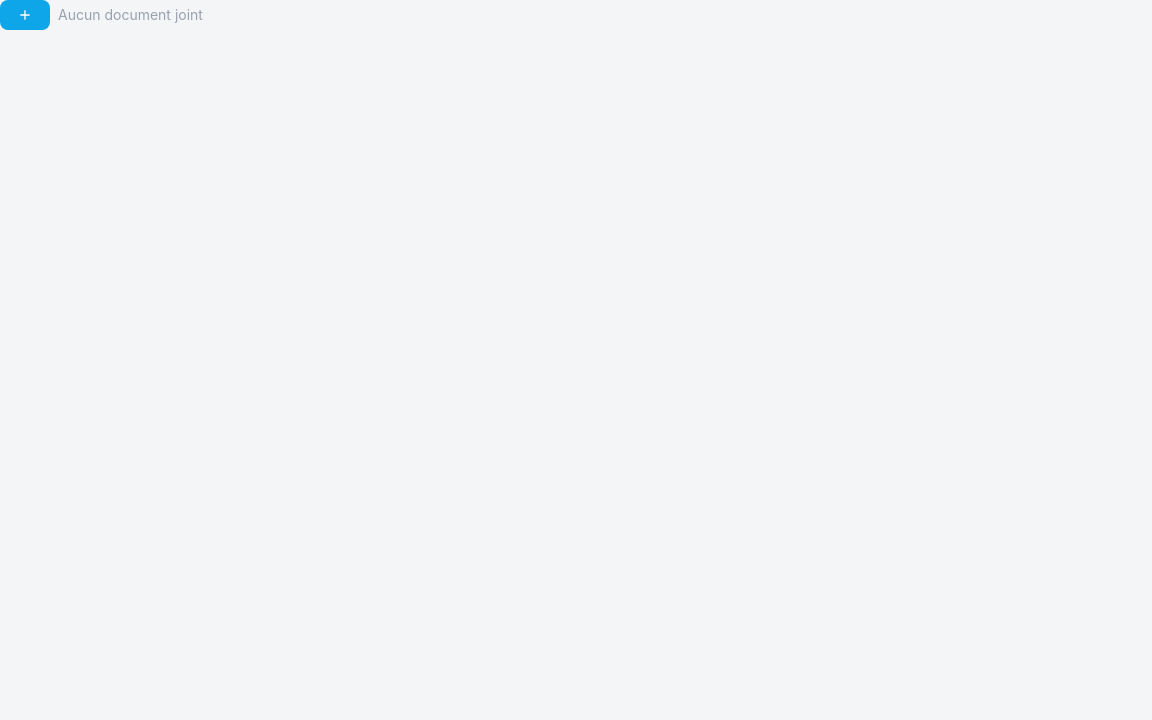
Test case: DocumentAttachment › annule sans téléverser ni associer de document
This screenshot has width=1152, height=720.
Click the button named "Ajouter un document": (25, 15) top-left (0, 0), bottom-right (50, 30)
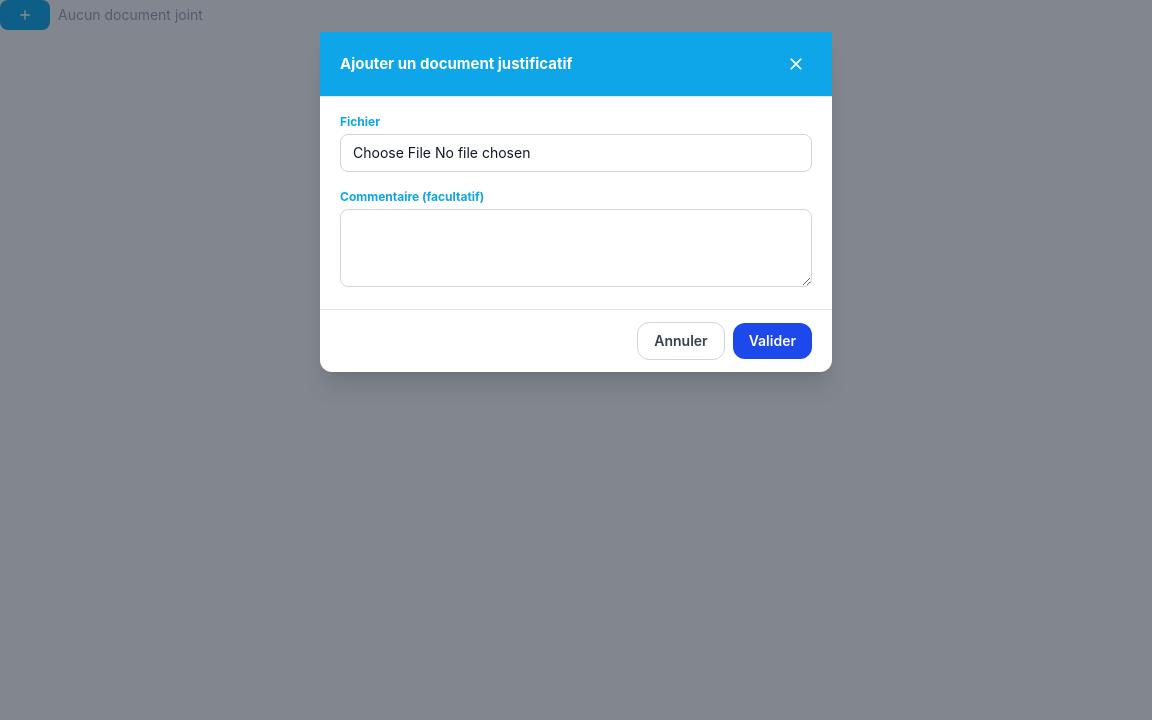
Click the button "Annuler": (681, 341) top-left (637, 322), bottom-right (725, 360)
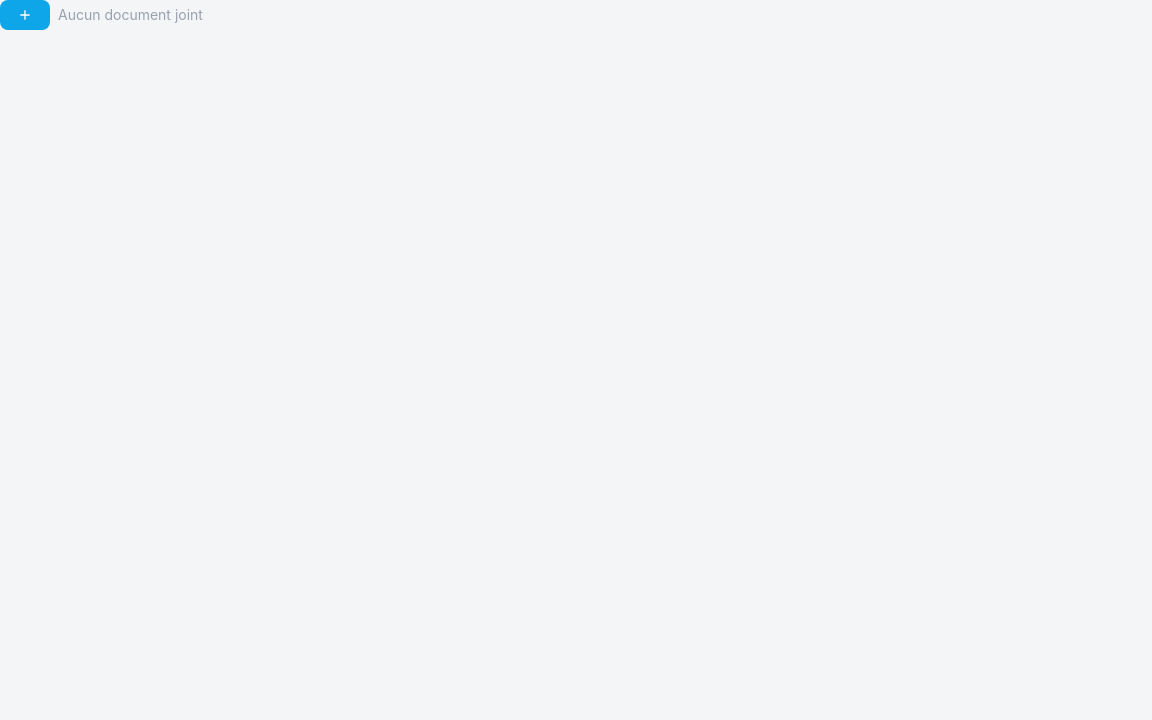
Expected: the dialog is gone
